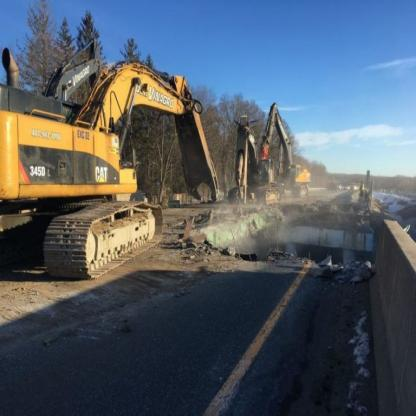excavator: (3, 32, 230, 296), (230, 111, 284, 209)
